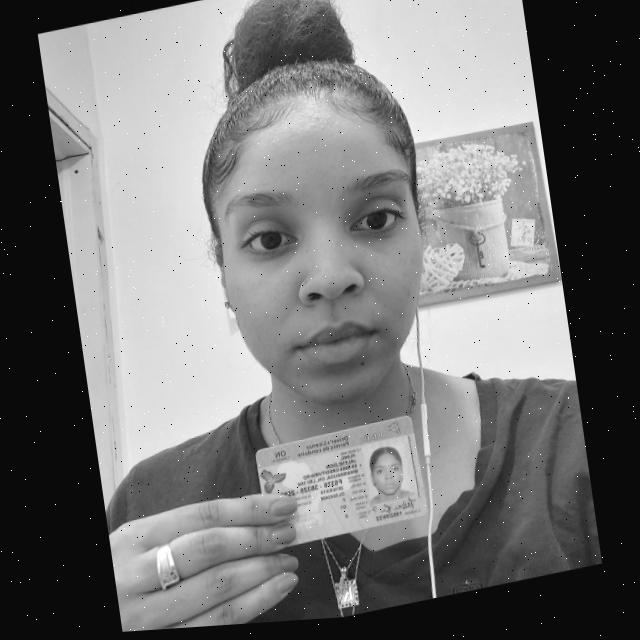card: (254, 414, 430, 550)
